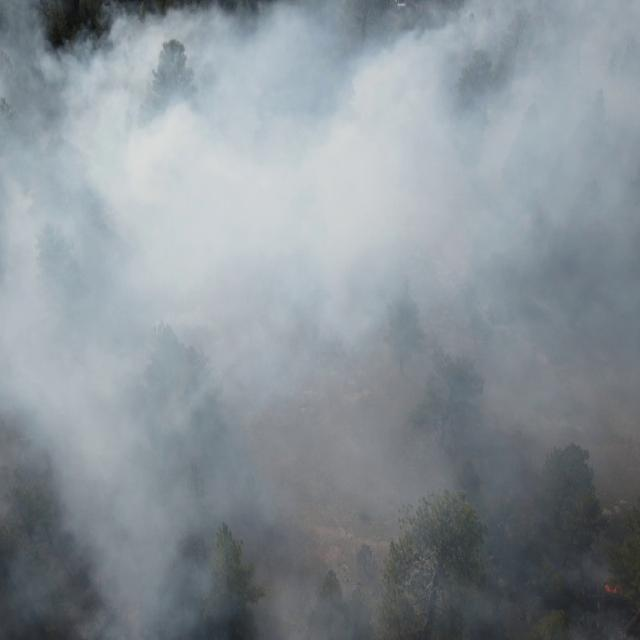fire: (603, 579, 622, 596)
smoke: (0, 0, 640, 640)
